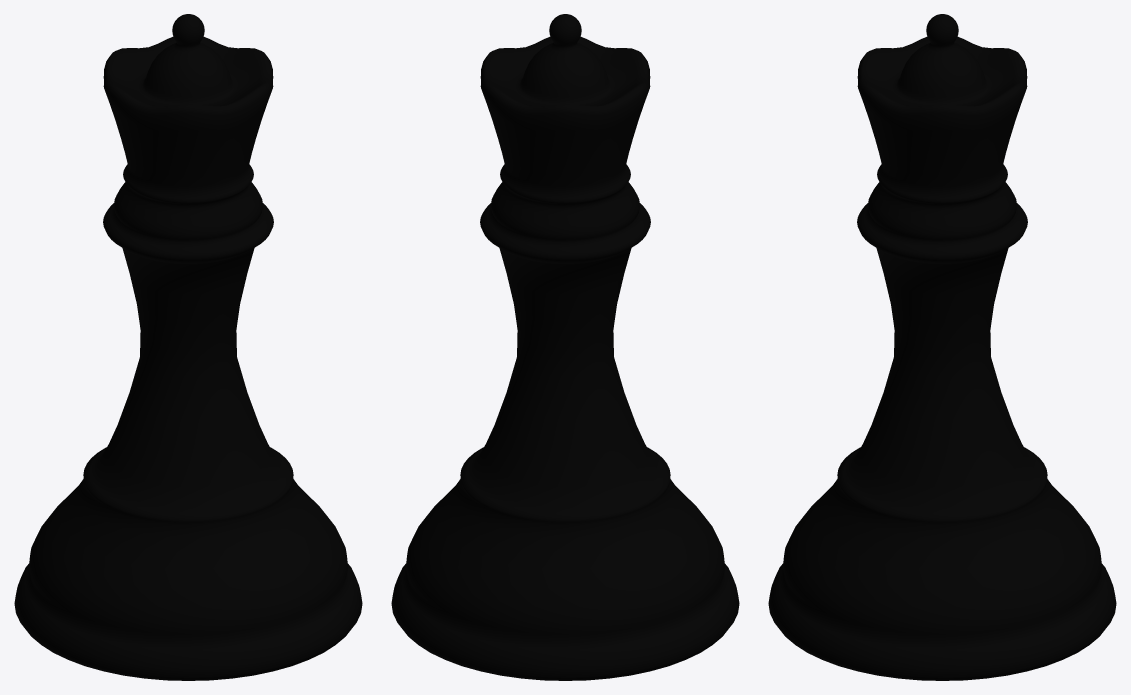
Rendered from queen-black.obj.
The picture shows the model from 3 angles, left to right: view 1: azimuth 30°, elevation 25°; view 2: azimuth 150°, elevation 25°; view 3: azimuth 270°, elevation 25°; orthographic projection.
Parts seen in each view (by area): view 1: high_poly_Cylinder.005; view 2: high_poly_Cylinder.005; view 3: high_poly_Cylinder.005.
Part boxes in pixels (box(x1,y1,x2,y2)): high_poly_Cylinder.005: box(14, 14, 362, 680); high_poly_Cylinder.005: box(391, 14, 739, 680); high_poly_Cylinder.005: box(768, 14, 1116, 680).
Bounding box in the file's own units: 2.36 × 4.48 × 2.36.
Materials: 1 (1 with a texture image).
